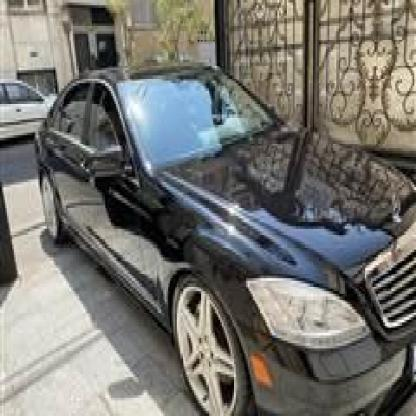Car: (41, 26, 416, 416), (0, 62, 73, 146)
